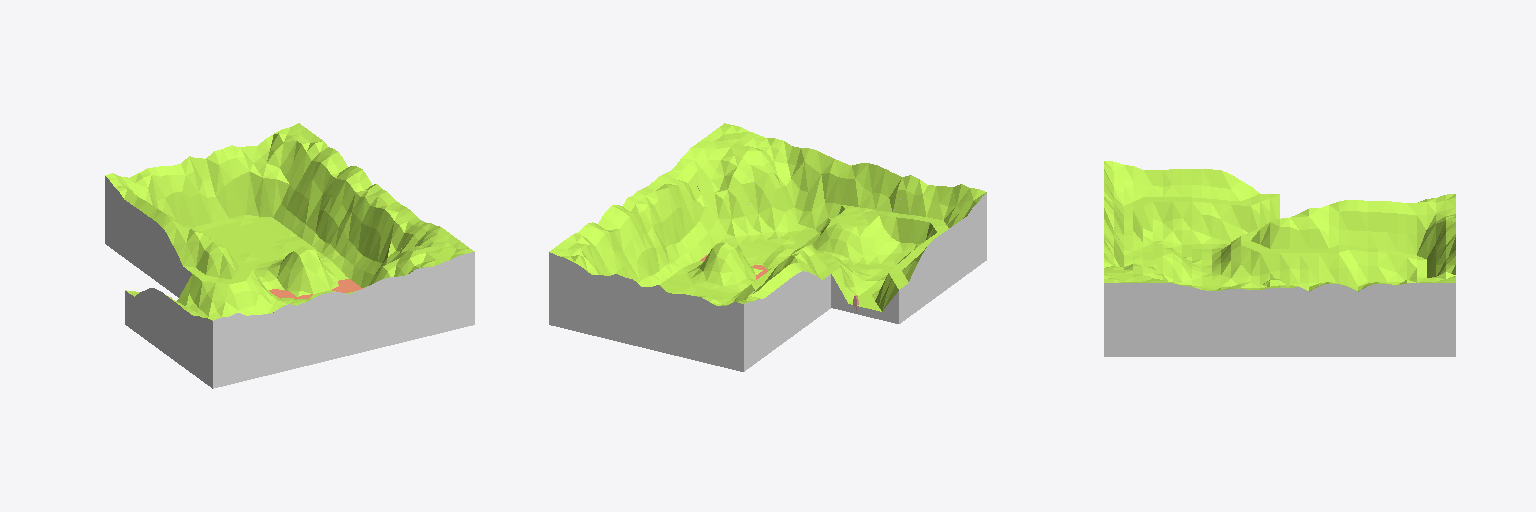
The model's file is terrain_45x512_end.obj.
3 views of the same model, side by side, from view 1: azimuth 30°, elevation 25°; view 2: azimuth 150°, elevation 25°; view 3: azimuth 270°, elevation 25° (orthographic).
Visible parts, largest first — view 1: entity0_brush143, entity0_brush287, entity0_brush431, entity0_brush1907, entity0_brush575, entity0_brush719, entity0_brush1835, entity0_brush71, entity0_brush1367, entity0_brush1223, entity0_brush215, entity0_brush1655 (+12 smaller); view 2: entity0_brush72, entity0_brush1584, entity0_brush216, entity0_brush0, entity0_brush648, entity0_brush504, entity0_brush1296, entity0_brush864, entity0_brush144, entity0_brush1152, entity0_brush1440, entity0_brush1008 (+4 smaller); view 3: entity0_brush71, entity0_brush0, entity0_brush59, entity0_brush60, entity0_brush3, entity0_brush63, entity0_brush64, entity0_brush68, entity0_brush7, entity0_brush8, entity0_brush24, entity0_brush16 (+24 smaller).
Boxes of the visible parts, box(x1,y1,x2,y2) form: entity0_brush143: box(455, 254, 466, 328); entity0_brush287: box(437, 260, 449, 332); entity0_brush431: box(424, 267, 432, 336); entity0_brush1907: box(221, 317, 229, 386); entity0_brush575: box(407, 270, 415, 340); entity0_brush719: box(390, 277, 398, 345); entity0_brush1835: box(238, 313, 246, 382); entity0_brush71: box(467, 249, 474, 326); entity0_brush1367: box(314, 294, 322, 363); entity0_brush1223: box(331, 292, 339, 359); entity0_brush215: box(450, 255, 457, 330); entity0_brush1655: box(280, 304, 288, 371); entity0_brush72: box(557, 256, 569, 328); entity0_brush1584: box(735, 301, 743, 371); entity0_brush216: box(574, 263, 582, 332); entity0_brush0: box(549, 249, 556, 326); entity0_brush648: box(625, 278, 633, 345); entity0_brush504: box(608, 274, 616, 340); entity0_brush1296: box(701, 297, 709, 363); entity0_brush864: box(650, 285, 658, 351); entity0_brush144: box(566, 256, 573, 330); entity0_brush1152: box(684, 294, 692, 359); entity0_brush1440: box(718, 305, 726, 367); entity0_brush1008: box(667, 292, 675, 355); entity0_brush71: box(1104, 279, 1113, 356); entity0_brush0: box(1446, 281, 1455, 356); entity0_brush59: box(1163, 281, 1172, 356); entity0_brush60: box(1153, 281, 1162, 356); entity0_brush3: box(1436, 282, 1445, 356); entity0_brush63: box(1143, 282, 1152, 356); entity0_brush64: box(1133, 282, 1142, 356); entity0_brush68: box(1114, 282, 1123, 356); entity0_brush7: box(1417, 283, 1426, 356); entity0_brush8: box(1407, 283, 1416, 356); entity0_brush24: box(1329, 283, 1338, 356); entity0_brush16: box(1368, 282, 1377, 356).
Bounding box in the file's own units: 7936 × 2112 × 9216.